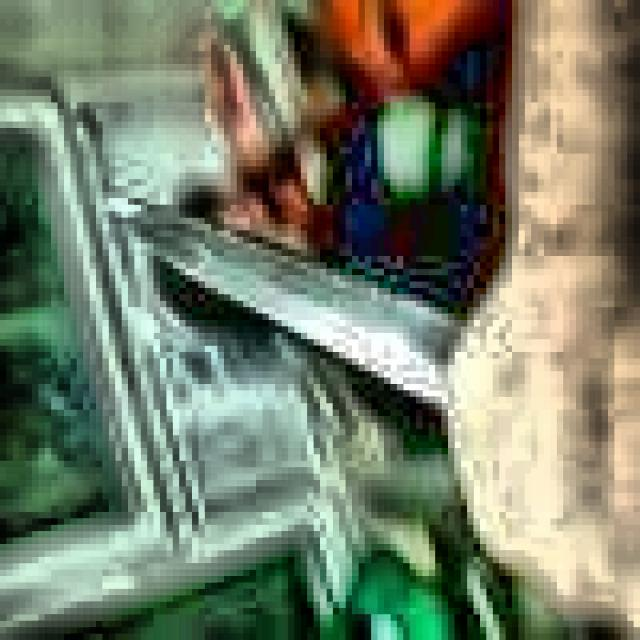knife: (109, 200, 464, 423)
